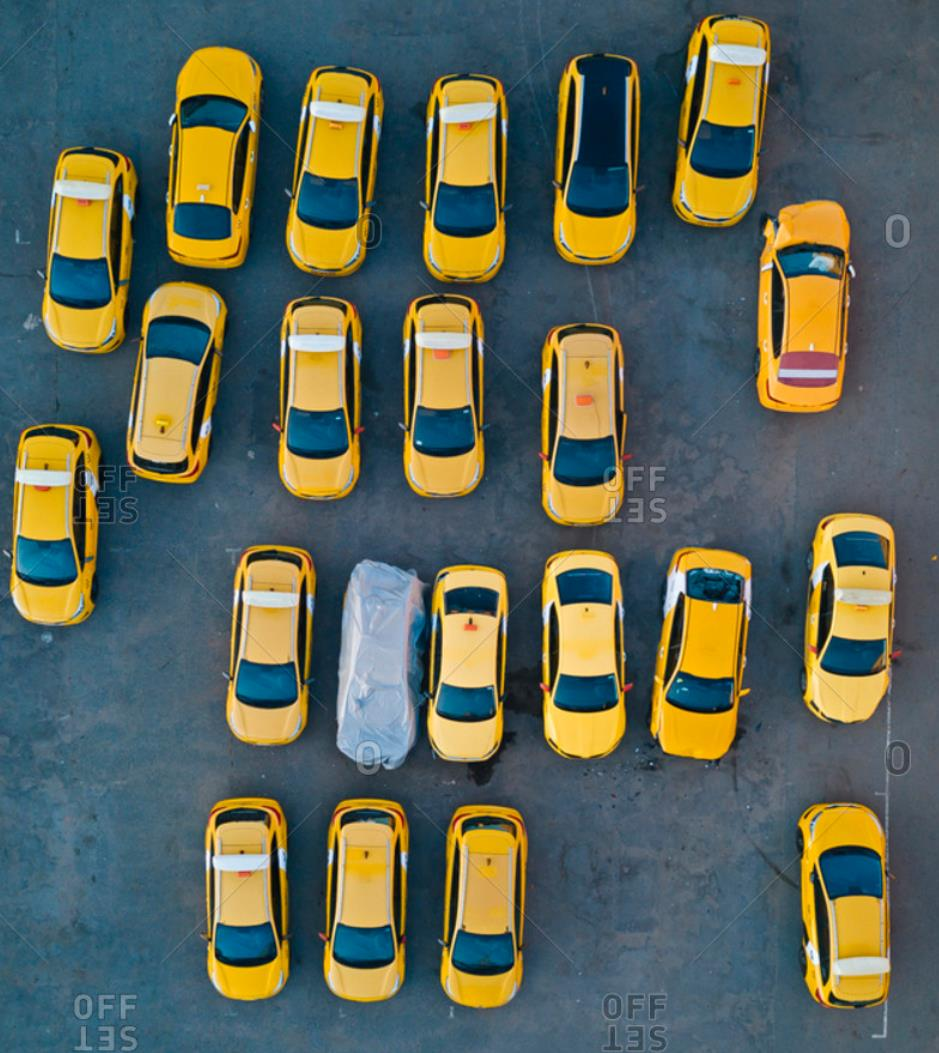car: (665, 14, 775, 229), (650, 548, 759, 761), (160, 49, 265, 270), (752, 199, 855, 418), (283, 61, 387, 274), (797, 511, 900, 722), (124, 279, 228, 486), (794, 801, 896, 1011), (6, 418, 108, 627), (37, 143, 138, 354), (536, 545, 630, 761), (222, 543, 321, 747), (551, 49, 643, 267), (419, 68, 511, 285), (435, 805, 531, 1011), (539, 318, 631, 531), (318, 798, 412, 1005), (273, 294, 365, 502), (397, 291, 486, 505), (200, 794, 292, 1001), (424, 562, 514, 762)
